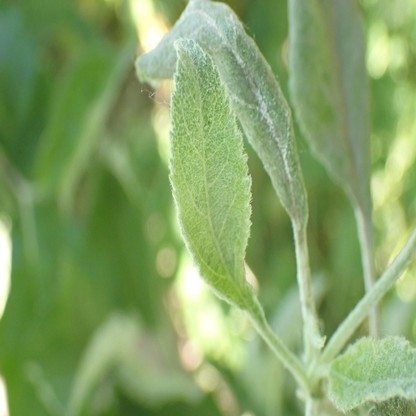powder: (134, 1, 310, 228), (168, 37, 252, 313), (326, 335, 416, 414)
